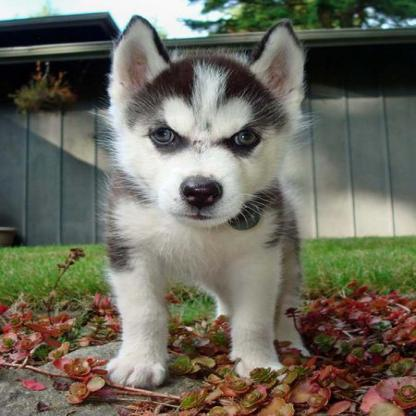husky: (101, 14, 304, 387)
